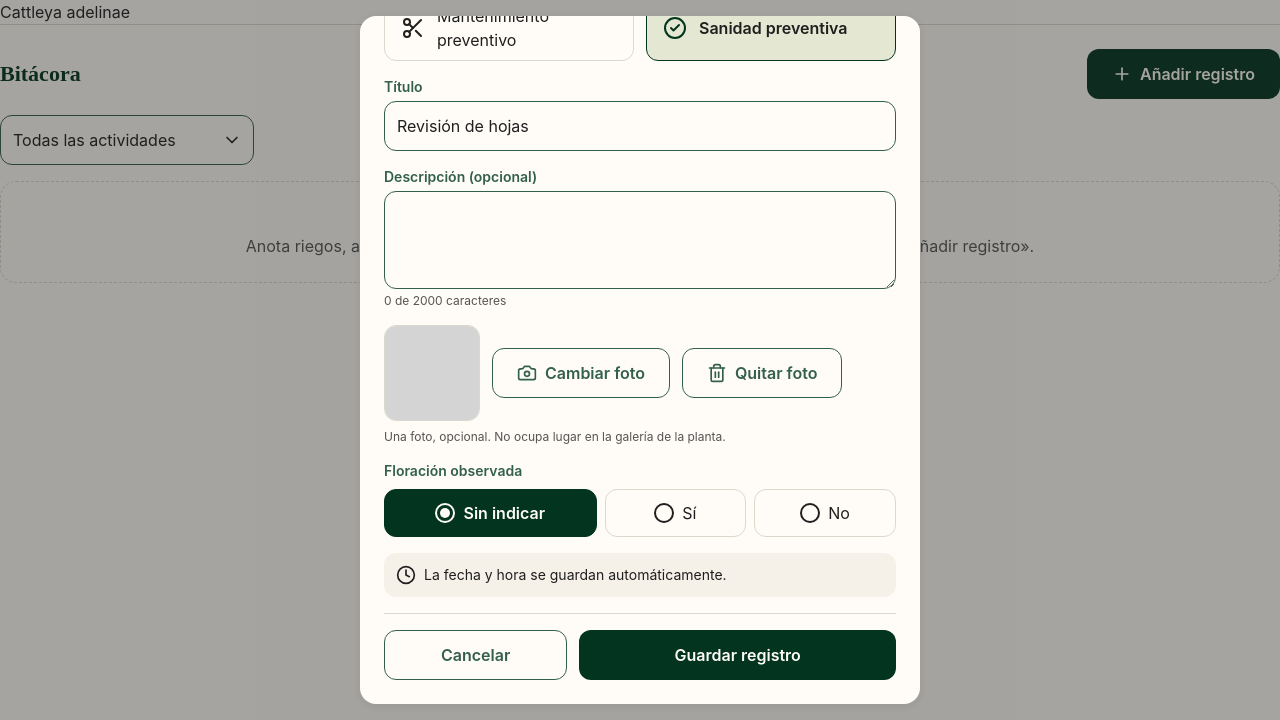
Test: PlantLogSection: añadir un registro › con foto: la sube a log/ y el registro la muestra
Earlier steps of the test are not shown.
(page scrolled)
Check: the button "Quitar foto" is shown, box top-left (682, 348), bottom-right (842, 398)
Check: the button "Cambiar foto" is shown, box top-left (492, 348), bottom-right (670, 398)
Step 1. Click the button "Guardar registro" → click(738, 655), box top-left (579, 630), bottom-right (896, 680)
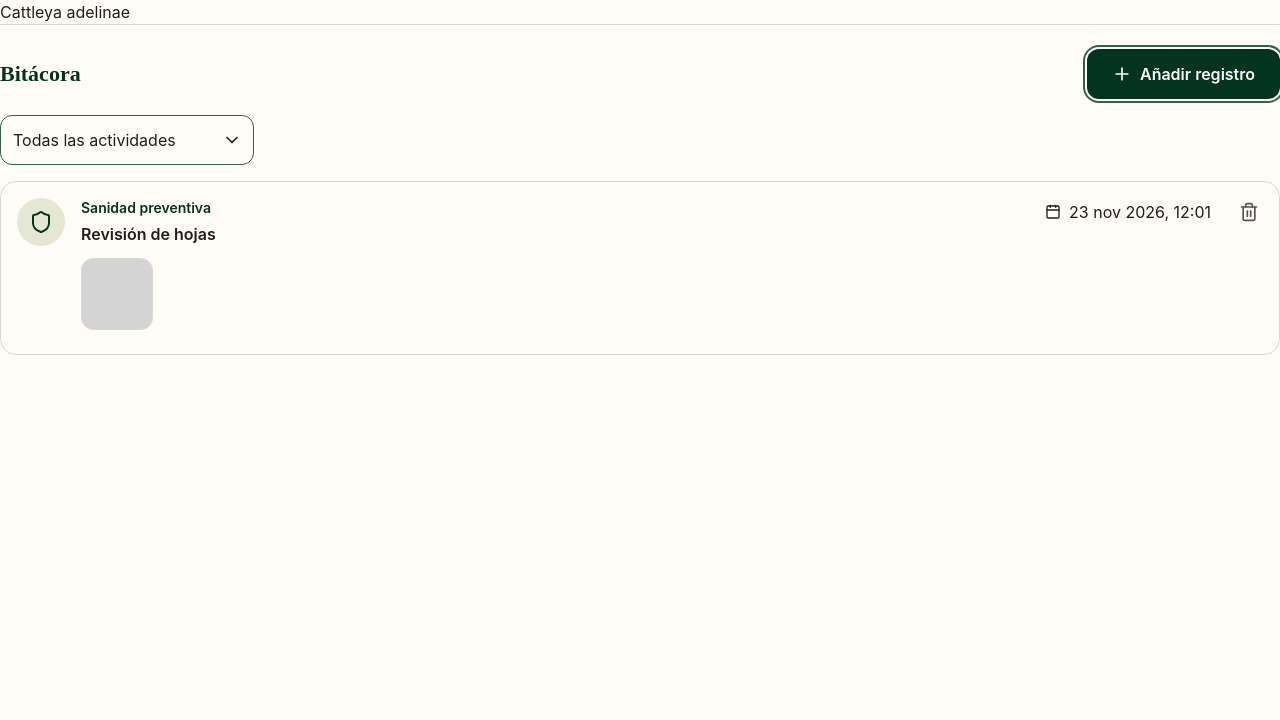
Check: the dialog is gone
